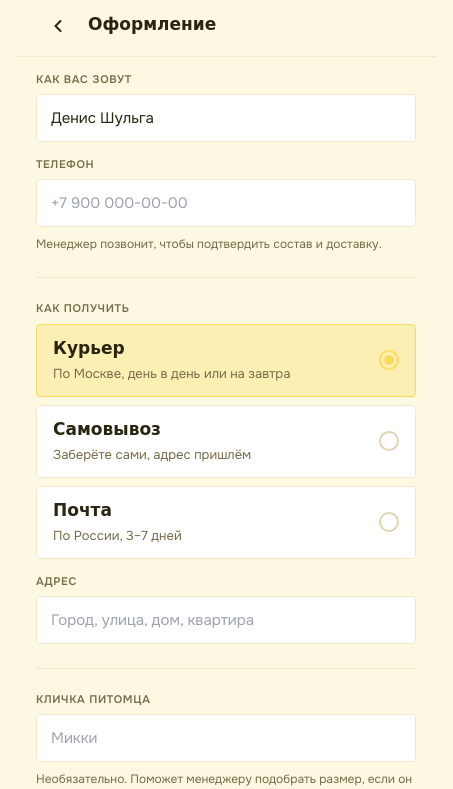
Test case: CheckoutScreen — форма › без согласия на обработку данных отправить нельзя, и это сказано
This screenshot has width=453, height=789.
Expected: the text "как получить" is shown, 36,301 -> 130,315
Type "+7 916 123-45-67" into the field with placeholder "+7 900 000-00-00".
click(226, 203); type("+7 916 123-45-67")  # box 51,192 -> 401,215
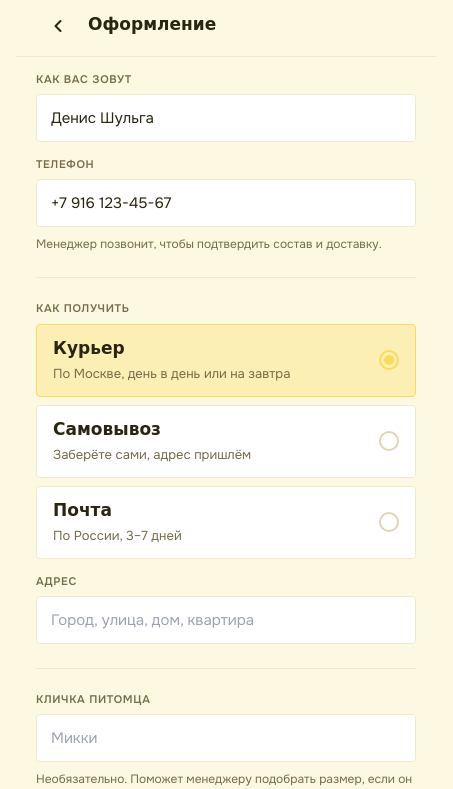
Click the text "Самовывоз".
click(107, 430)  # box 53,417 -> 161,444
(page scrolled)
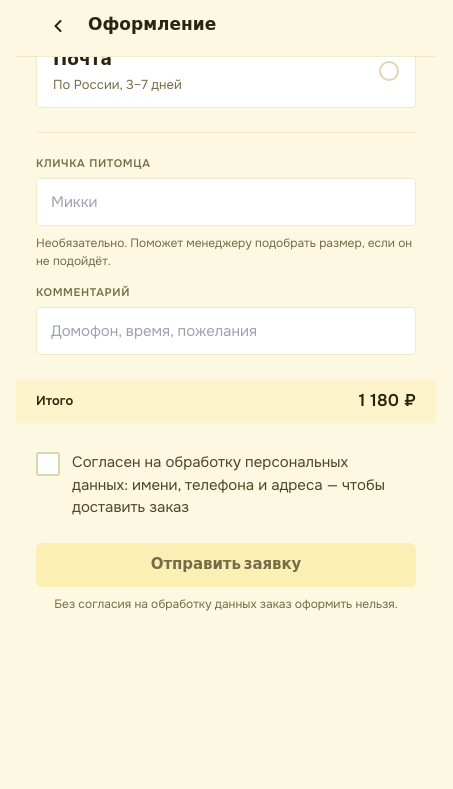
Now the button "Отправить заявку" is disabled, box 36,543 -> 416,587
Now the text "Без согласия на обработку данных заказ оформить нельзя." is shown, box 36,595 -> 416,613
